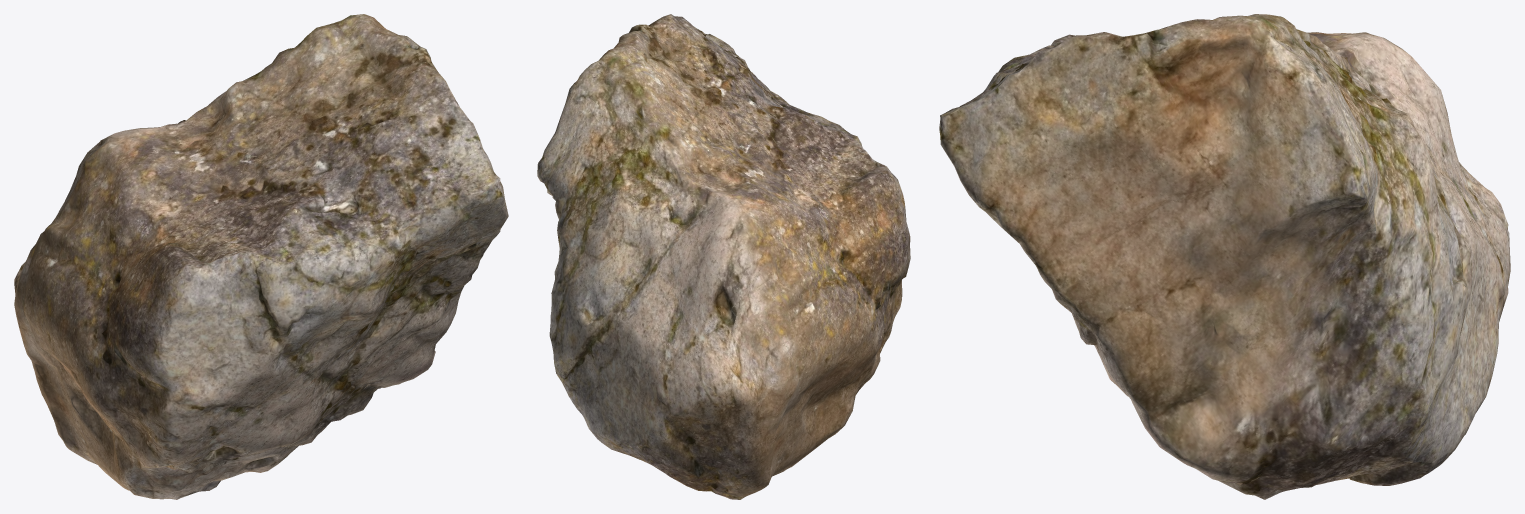
The model's file is waterfall_rock3.obj.
3 renders of one model, left to right at view 1: azimuth 30°, elevation 25°; view 2: azimuth 150°, elevation 25°; view 3: azimuth 270°, elevation 25°, orthographic. The views are drawn at different scales.
Parts seen in each view (by area): view 1: Large_Rock_04.001_Large_Rock_04.001; view 2: Large_Rock_04.001_Large_Rock_04.001; view 3: Large_Rock_04.001_Large_Rock_04.001.
Part boxes in pixels (left/top/right/bottom): Large_Rock_04.001_Large_Rock_04.001: left=14, top=14, right=508, bottom=499; Large_Rock_04.001_Large_Rock_04.001: left=537, top=14, right=910, bottom=499; Large_Rock_04.001_Large_Rock_04.001: left=939, top=14, right=1510, bottom=499.
Bounding box in the file's own units: 0.2389 × 0.3025 × 0.2817.
